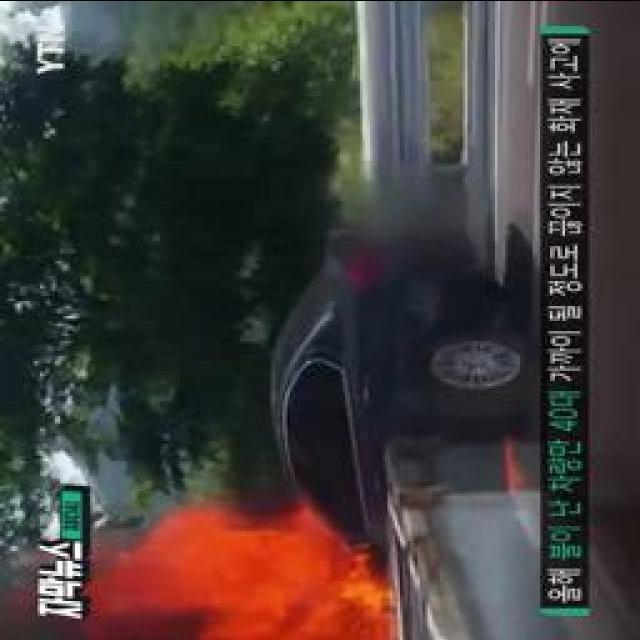Fire: (84, 499, 397, 640)
